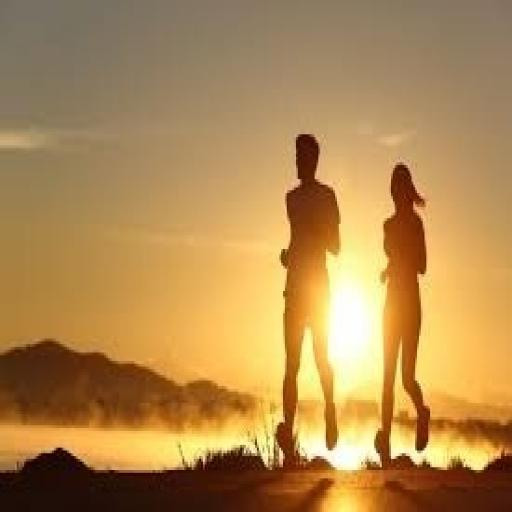running: (274, 129, 344, 467), (372, 157, 434, 467)
